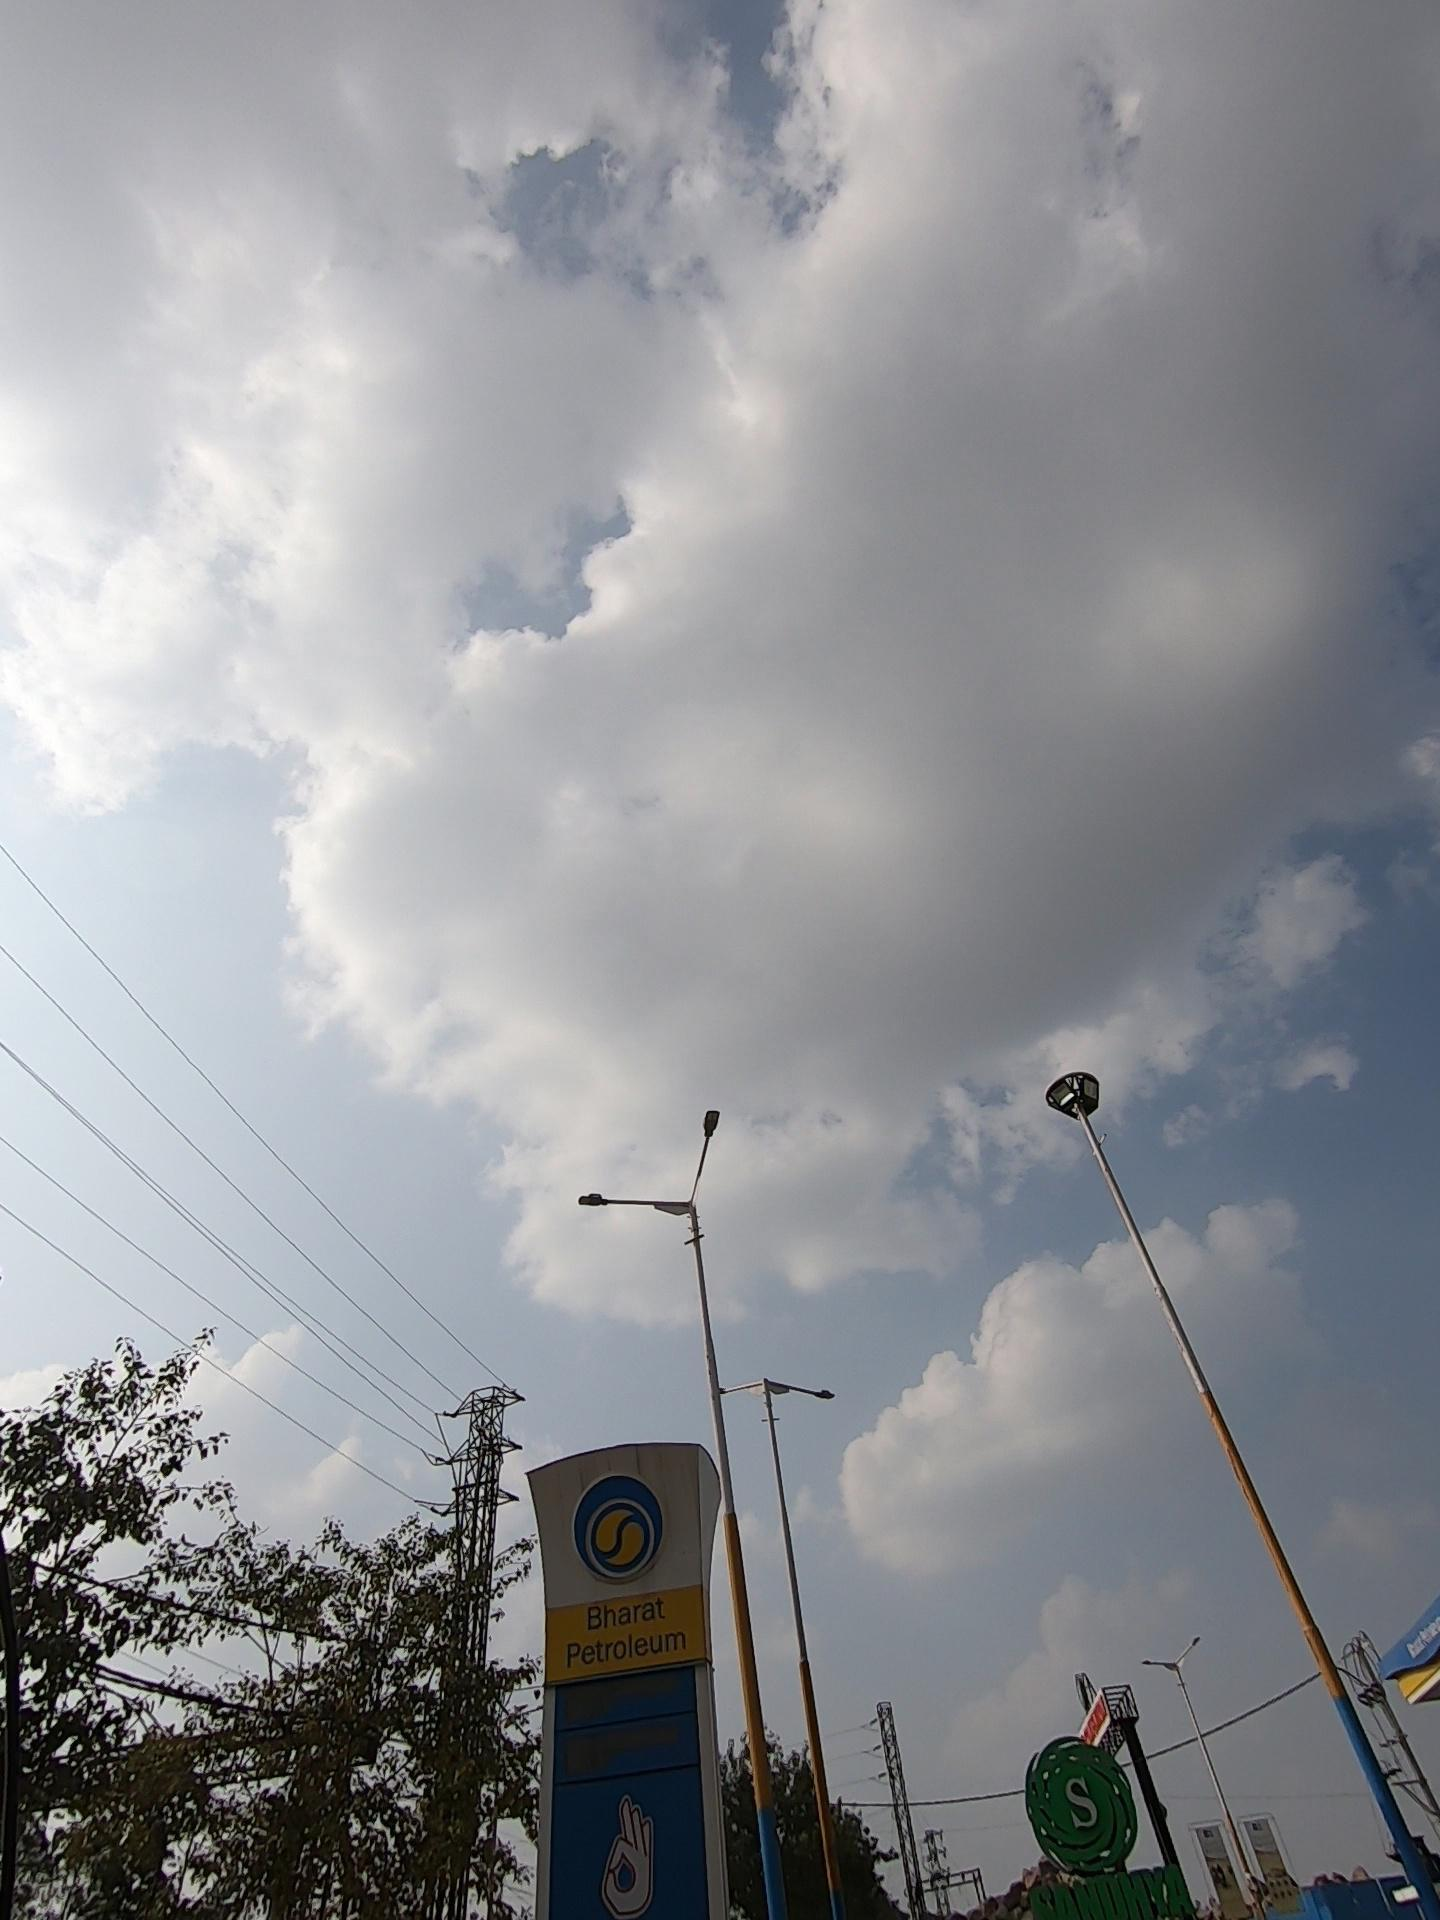off: (540, 1051, 782, 1256), (667, 1358, 870, 1435), (1013, 1045, 1133, 1163)
